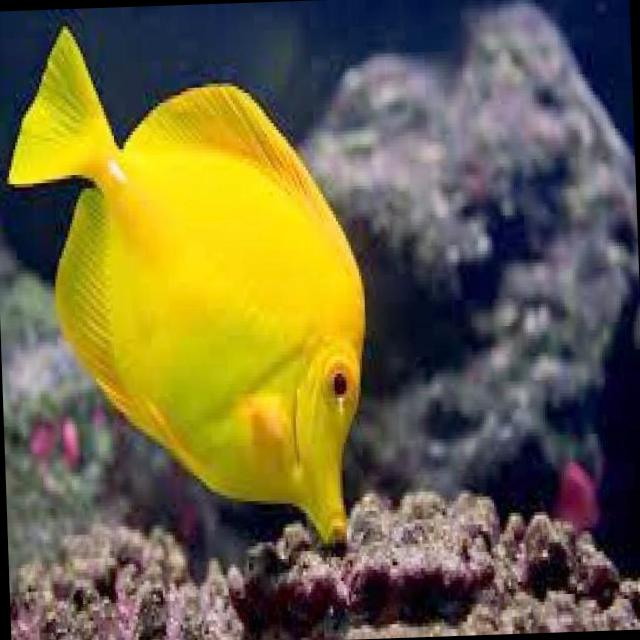TangFish: (3, 13, 374, 558)
